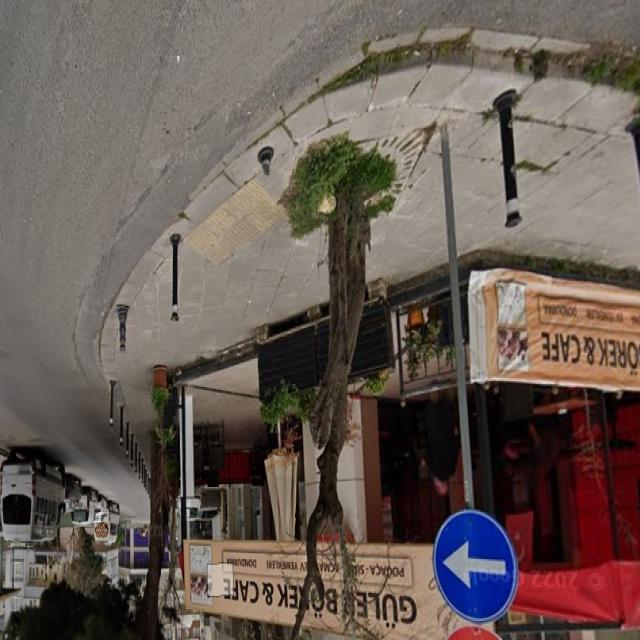Turn Left: (433, 501, 516, 617)
